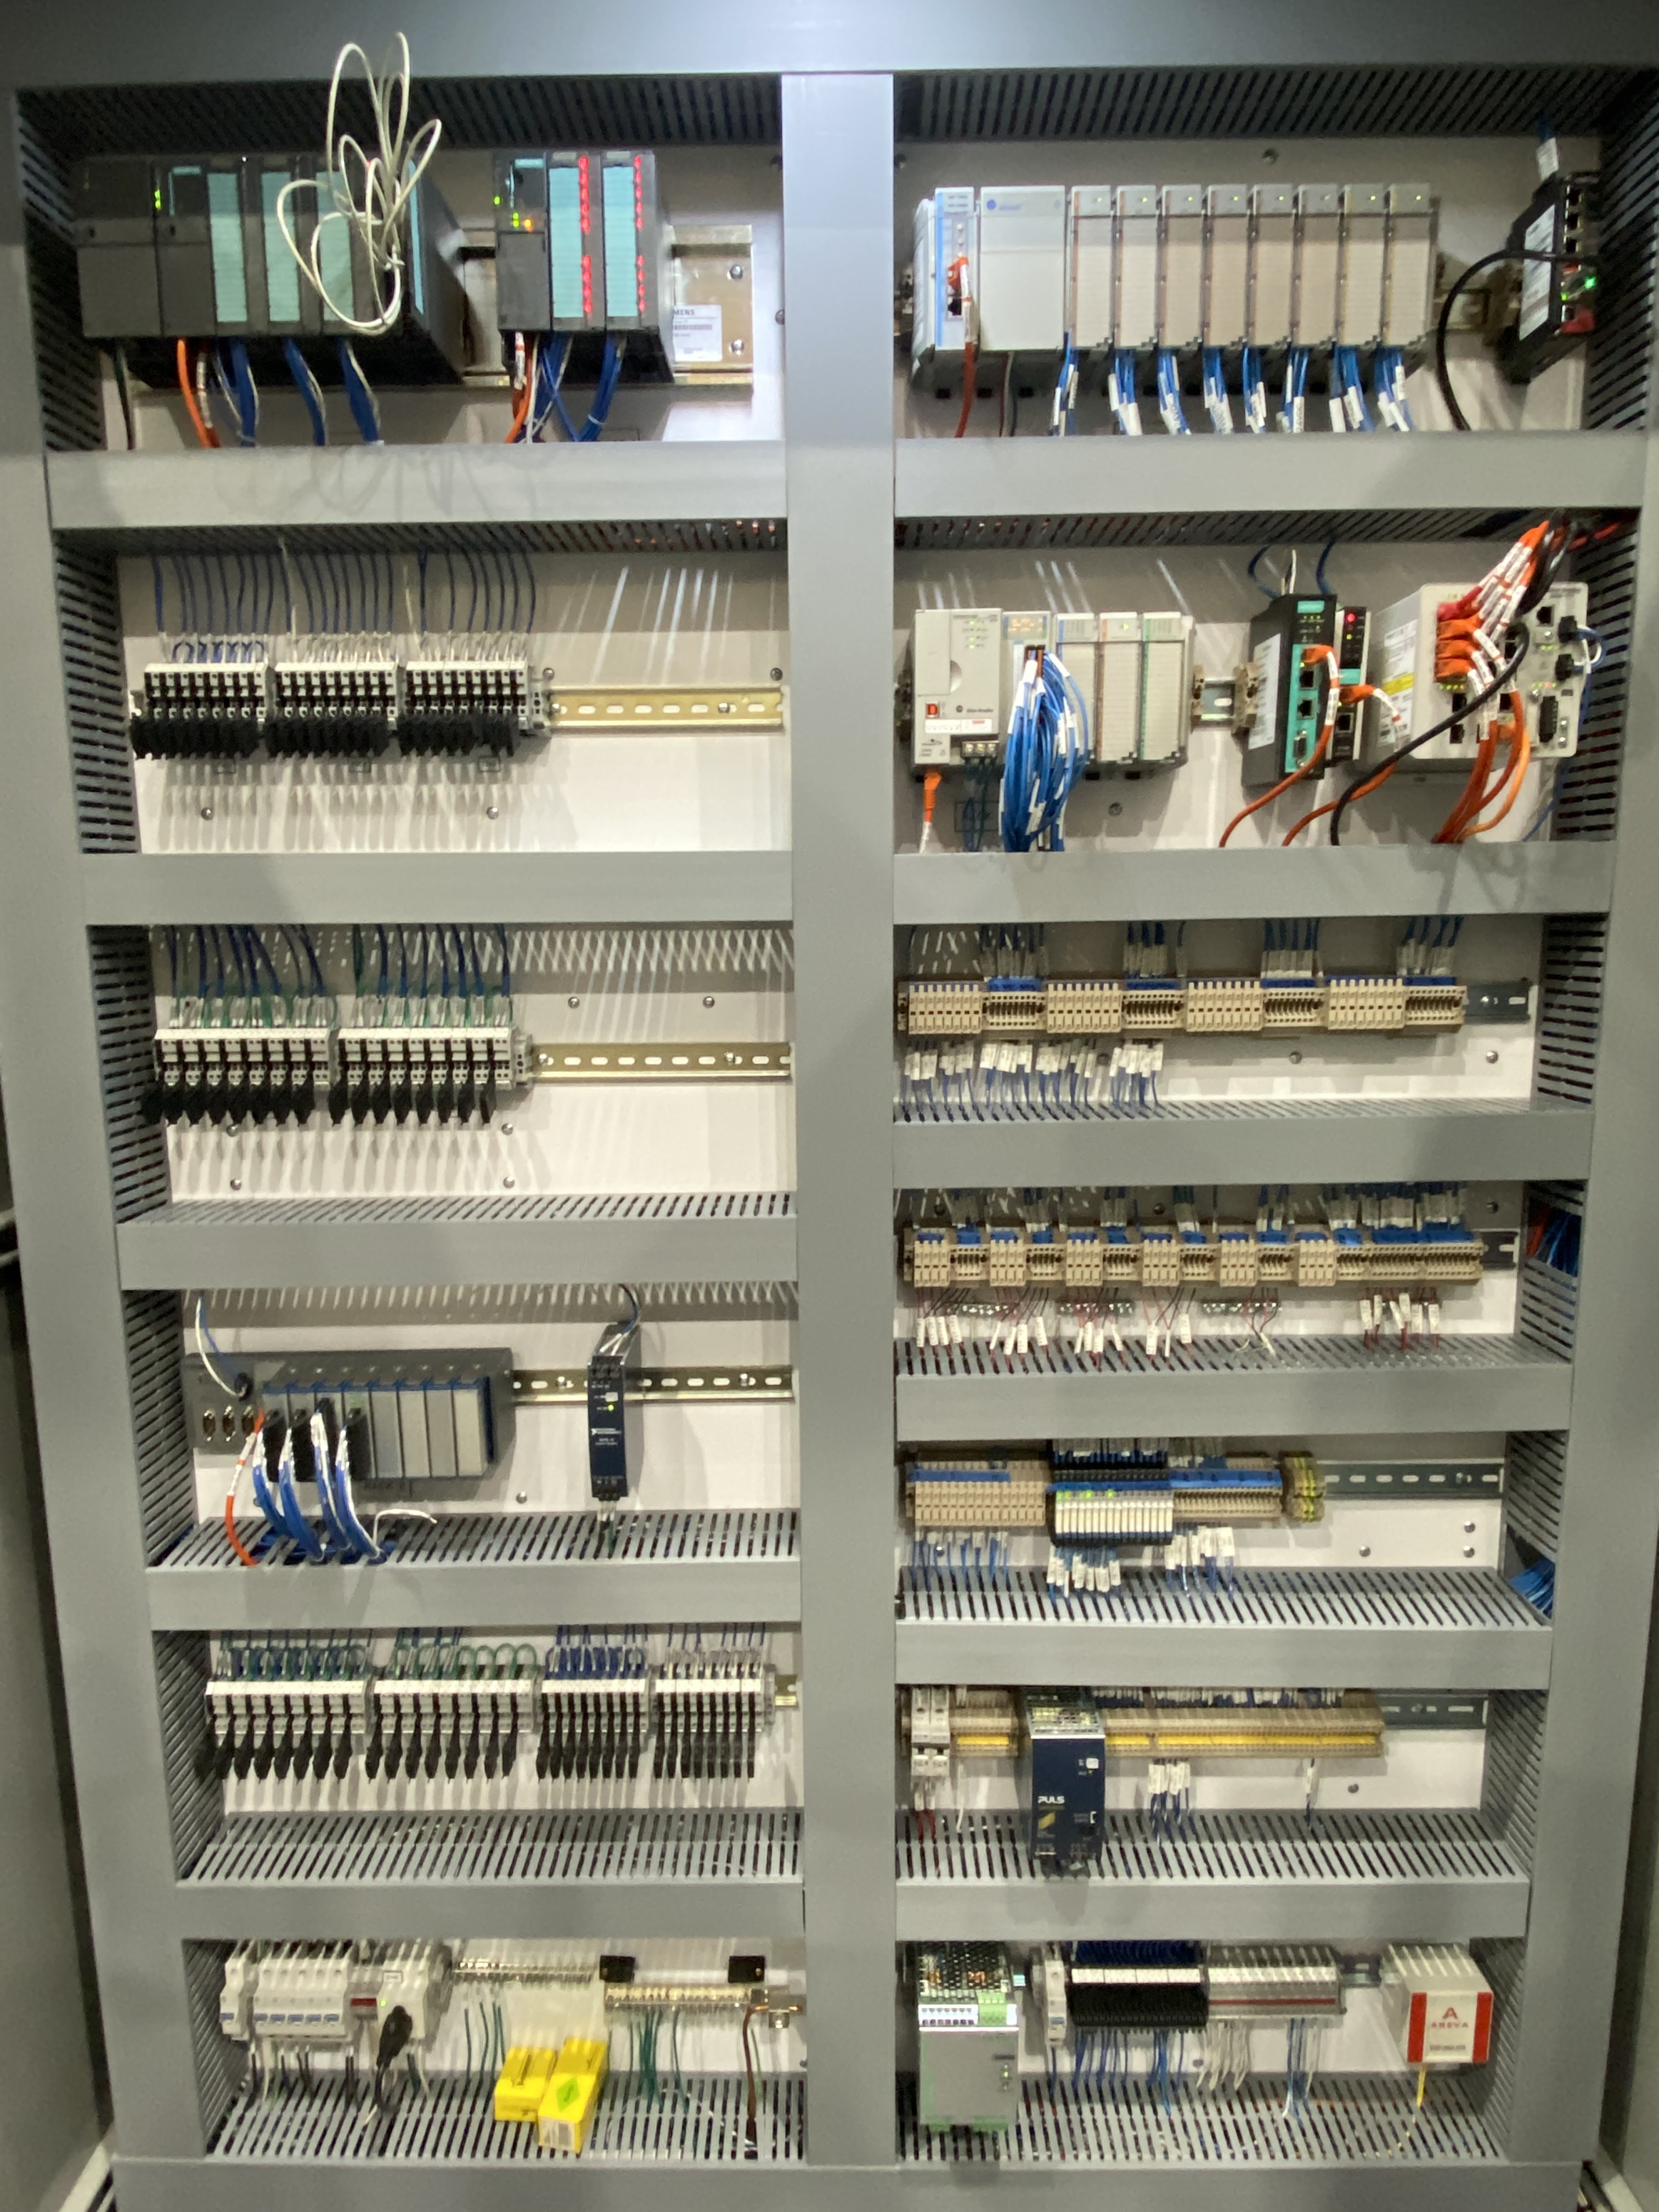AllenBradley: (913, 608, 1002, 765)
Siemens: (152, 162, 220, 343)
